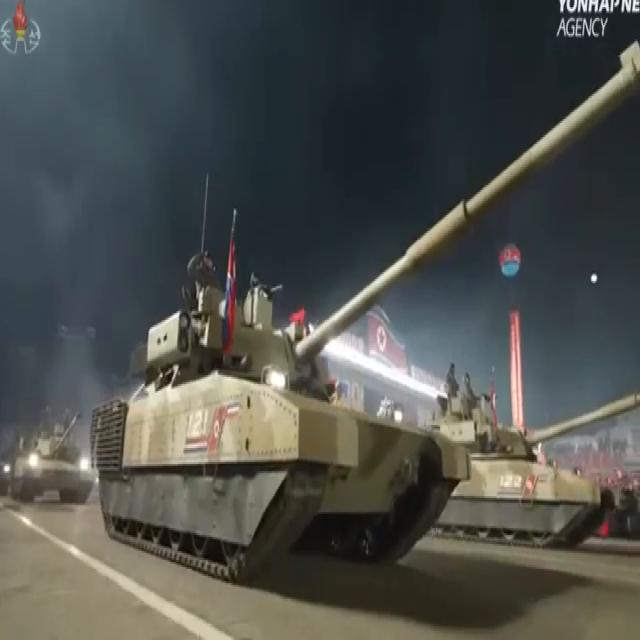north tank: (95, 47, 640, 579), (381, 347, 640, 592), (1, 386, 102, 528)
